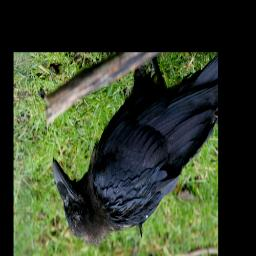Crow: (50, 54, 218, 246)
